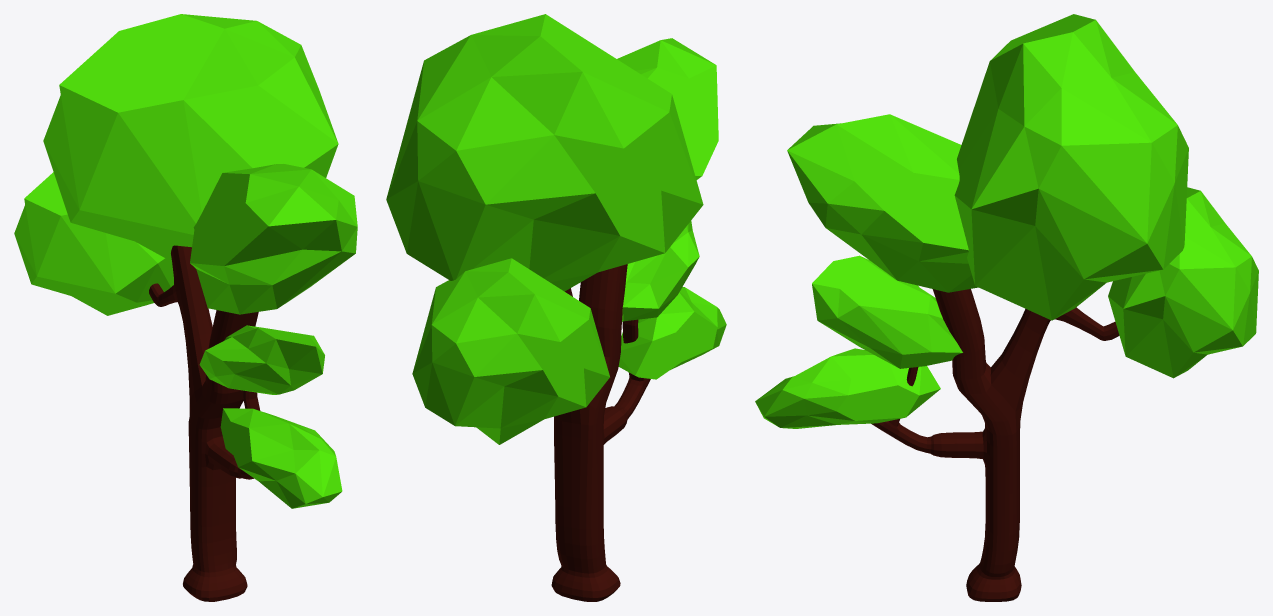
Rendered from tree 1.fbx.
3 views of the same model, side by side, from view 1: azimuth 30°, elevation 25°; view 2: azimuth 150°, elevation 25°; view 3: azimuth 270°, elevation 25° (orthographic). The views are drawn at different scales.
Visible parts, largest first — view 1: Icosphere.004, Icosphere.001, Cube, Icosphere, Icosphere.003, Icosphere.002; view 2: Icosphere.004, Icosphere, Cube, Icosphere.001, Icosphere.003, Icosphere.002; view 3: Icosphere.004, Icosphere.001, Cube, Icosphere, Icosphere.002, Icosphere.003.
Part boxes in pixels (x1=…): Icosphere.004: x1=43, y1=14, x2=338, y2=261; Icosphere.001: x1=190, y1=164, x2=357, y2=314; Cube: x1=149, y1=245, x2=260, y2=601; Icosphere: x1=14, y1=172, x2=173, y2=315; Icosphere.003: x1=220, y1=408, x2=342, y2=508; Icosphere.002: x1=199, y1=325, x2=324, y2=394; Icosphere.004: x1=386, y1=14, x2=703, y2=291; Icosphere: x1=412, y1=258, x2=609, y2=444; Cube: x1=551, y1=264, x2=650, y2=601; Icosphere.001: x1=617, y1=38, x2=718, y2=179; Icosphere.003: x1=618, y1=287, x2=726, y2=379; Icosphere.002: x1=622, y1=220, x2=699, y2=321; Icosphere.004: x1=954, y1=14, x2=1188, y2=320; Icosphere.001: x1=787, y1=114, x2=978, y2=292; Cube: x1=871, y1=289, x2=1119, y2=601; Icosphere: x1=1108, y1=187, x2=1258, y2=378; Icosphere.002: x1=812, y1=255, x2=962, y2=368; Icosphere.003: x1=755, y1=348, x2=940, y2=428.
Bounding box in the file's own units: 996 × 2098 × 1703.
